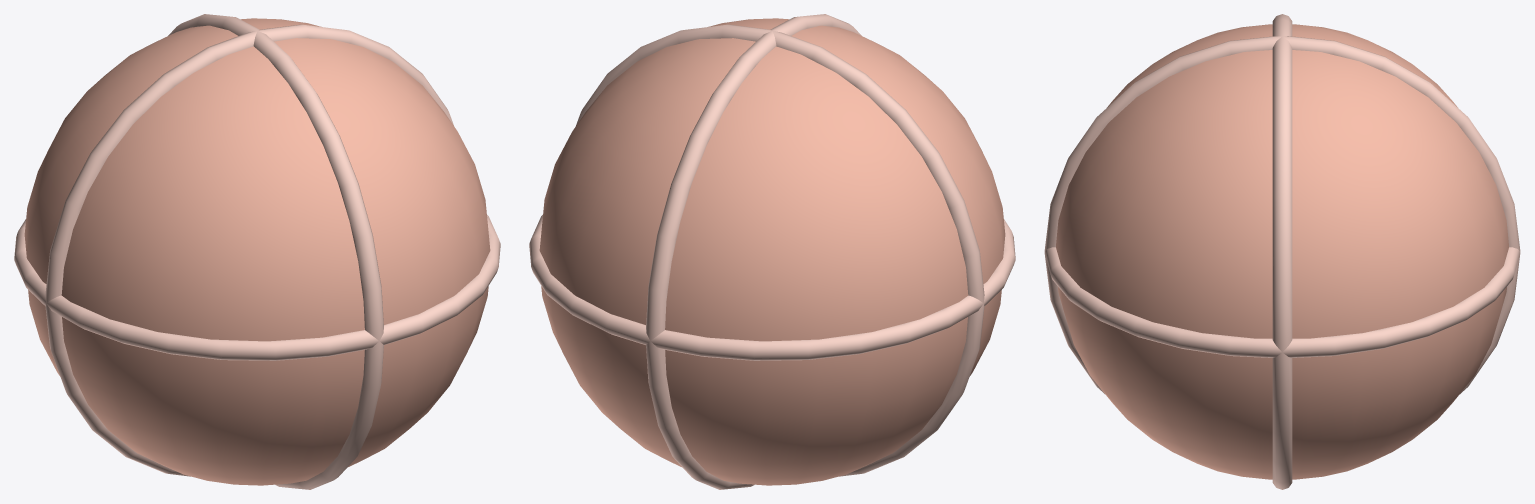
Rendered from VM-ACC-EXT142.glb.
The picture shows the model from 3 angles, left to right: view 1: azimuth 30°, elevation 25°; view 2: azimuth 150°, elevation 25°; view 3: azimuth 270°, elevation 25°; orthographic projection. The views are drawn at different scales.
Parts seen in each view (by area): view 1: Pelota de Críquet; view 2: Pelota de Críquet; view 3: Pelota de Críquet.
Boxes of the visible parts, bbox=[...] form: Pelota de Críquet: bbox=[14, 14, 500, 489]; Pelota de Críquet: bbox=[529, 14, 1015, 489]; Pelota de Críquet: bbox=[1044, 14, 1520, 489].
Size of the model in its own units: 0.2216 by 0.2216 by 0.2216.
